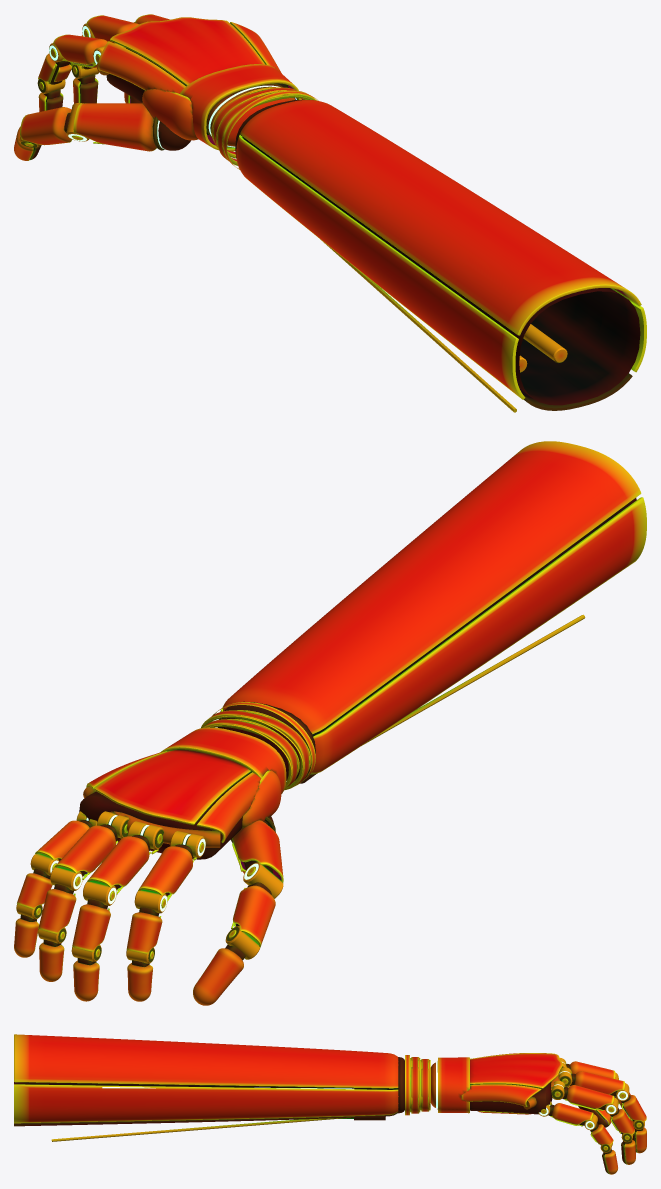
The model's file is robot_hand.glb.
3 renders of one model, top to bottom at view 1: azimuth 30°, elevation 25°; view 2: azimuth 150°, elevation 25°; view 3: azimuth 270°, elevation 25°, orthographic. The views are drawn at different scales.
Visible parts, largest first — view 1: Forearm, Palm, T_0, T_1, F2_0, WristCore, WristRing2, F3_2, F2_1, F3_0, WristRing1, F2_2; view 2: Forearm, Palm, F3_0, T_1, T_2, F2_0, F4_0, T_0, F3_1, F4_1, F2_1, WristRing2 (+7 smaller); view 3: Forearm, Palm, F4_0, F3_0, F5_0, WristRing2, F3_1, WristRing1, F4_1, F2_0, F5_1, F4_2 (+4 smaller).
Boxes of the visible parts, x1,y1,x2,y2 form: Forearm: (223, 91, 646, 412); Palm: (96, 17, 301, 151); T_0: (73, 103, 164, 151); T_1: (20, 103, 89, 145); F2_0: (53, 34, 124, 67); WristCore: (206, 83, 296, 147); WristRing2: (215, 90, 316, 165); F3_2: (71, 65, 98, 103); F2_1: (38, 43, 73, 84); F3_0: (86, 15, 138, 43); WristRing1: (211, 87, 307, 158); F2_2: (37, 78, 65, 111); Forearm: (212, 441, 646, 785); Palm: (79, 727, 286, 860); F3_0: (87, 821, 163, 894); T_1: (231, 862, 283, 947); T_2: (193, 926, 259, 1005); F2_0: (138, 831, 205, 901); F4_0: (55, 811, 128, 879); T_0: (231, 816, 283, 882); F3_1: (72, 880, 116, 951); F4_1: (38, 866, 82, 933); F2_1: (126, 889, 167, 953); WristRing2: (201, 710, 311, 790); Forearm: (14, 1034, 409, 1141); Palm: (437, 1053, 562, 1114); F4_0: (551, 1080, 614, 1110); F3_0: (558, 1067, 624, 1096); F5_0: (538, 1101, 593, 1126); WristRing2: (410, 1057, 420, 1113); F3_1: (616, 1083, 646, 1121); WristRing1: (420, 1059, 430, 1111); F4_1: (605, 1097, 634, 1134); F2_0: (559, 1057, 615, 1078); F5_1: (584, 1114, 613, 1145); F4_2: (621, 1133, 635, 1164).
Size of the model in its own units: 0.1225 by 0.1021 by 0.5026.
